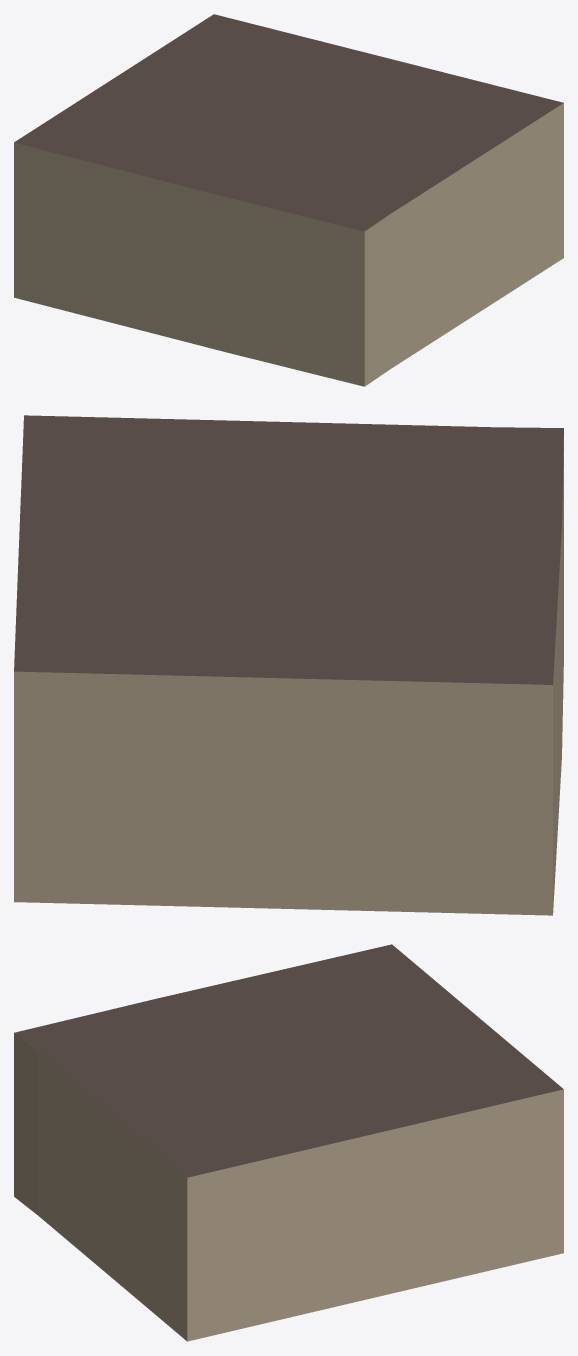
The picture shows the model from 3 angles, top to bottom: view 1: azimuth 30°, elevation 25°; view 2: azimuth 150°, elevation 25°; view 3: azimuth 270°, elevation 25°; orthographic projection. The views are drawn at different scales.
Parts seen in each view (by area): view 1: HP-w1197053242; view 2: HP-w1197053242; view 3: HP-w1197053242.
Part boxes in pixels (x1,y1,x2,y2): HP-w1197053242: (14,14,563,386); HP-w1197053242: (14,415,563,915); HP-w1197053242: (14,944,563,1341).
Bounding box in the file's own units: 27.49 × 9 × 27.37.
